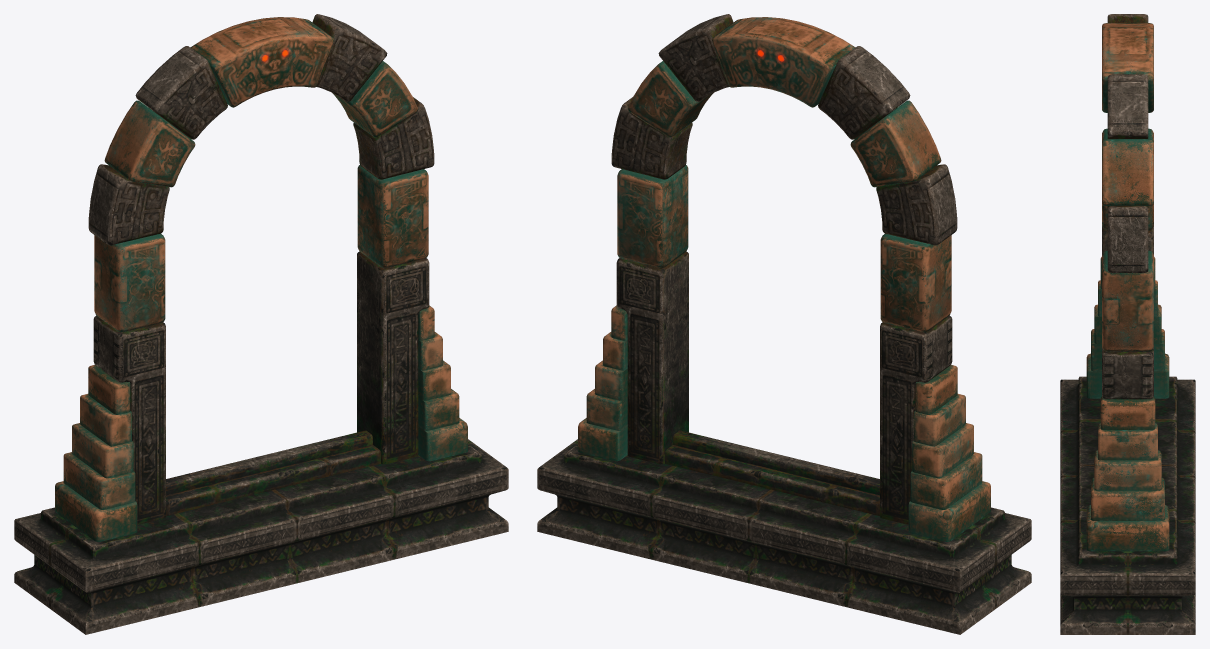
3 renders of one model, left to right at view 1: azimuth 30°, elevation 25°; view 2: azimuth 150°, elevation 25°; view 3: azimuth 270°, elevation 25°, orthographic. The views are drawn at different scales.
Parts seen in each view (by area): view 1: PortalFrame; view 2: PortalFrame; view 3: PortalFrame.
Part boxes in pixels (left/top/right/bottom): PortalFrame: left=14, top=14, right=508, bottom=634; PortalFrame: left=537, top=14, right=1031, bottom=634; PortalFrame: left=1060, top=14, right=1195, bottom=634.
Bounding box in the file's own units: 322 × 383 × 94.06.
1 material, 1 textured.
